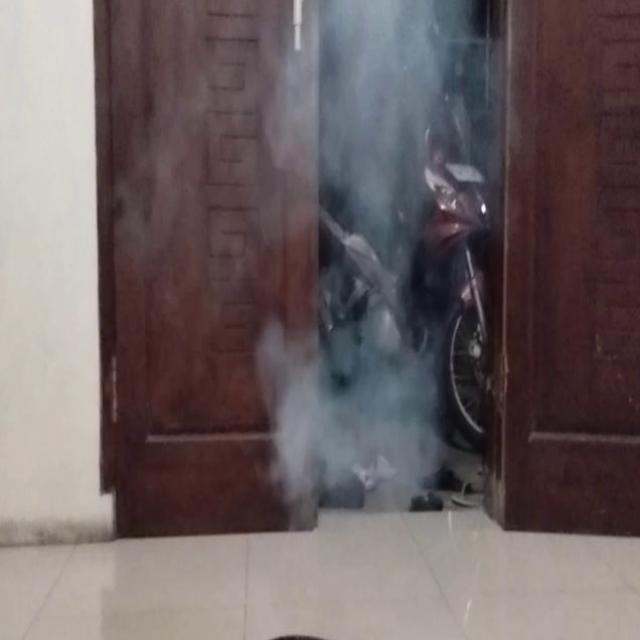fire: (253, 0, 528, 237), (253, 310, 468, 510)
